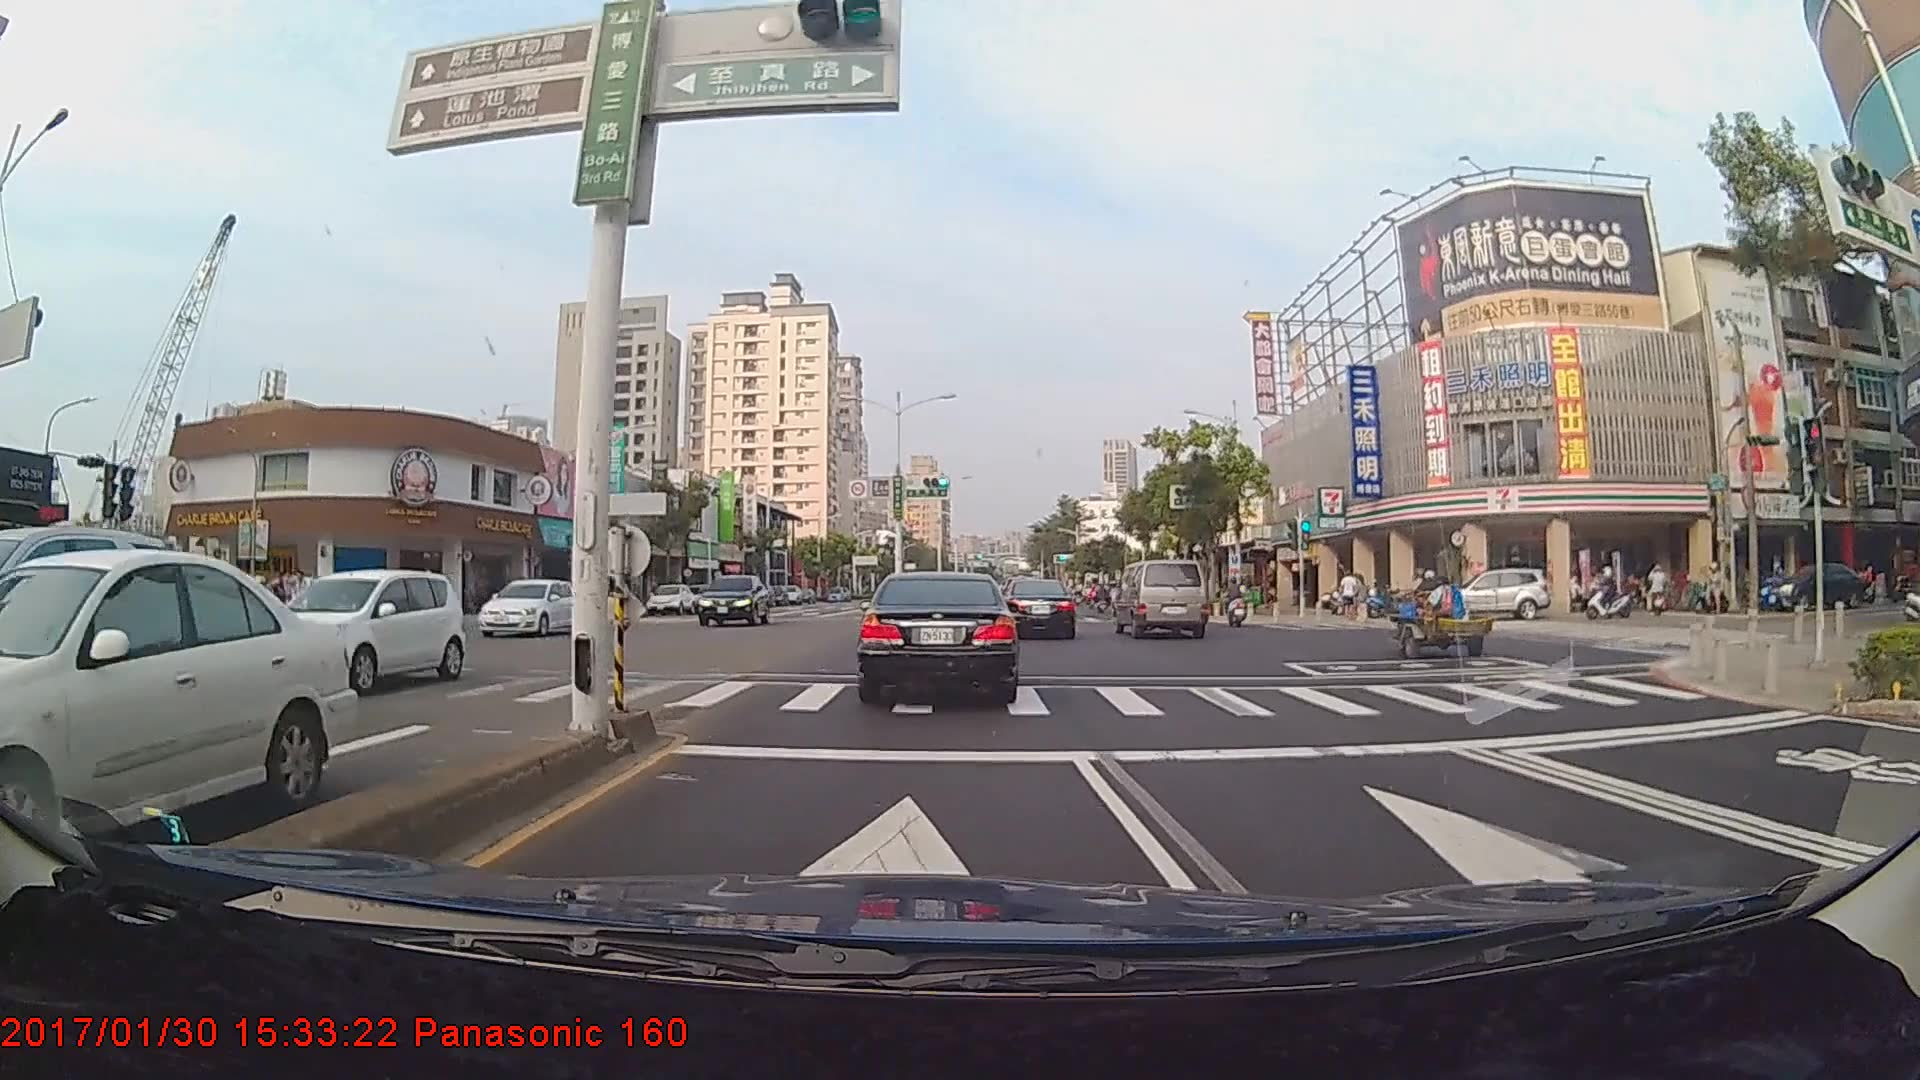pedestrian: (1340, 569, 1360, 620)
rider: (1581, 563, 1644, 627), (1216, 577, 1254, 629)
vehicle: (0, 549, 320, 860), (0, 526, 175, 750), (240, 565, 463, 696), (858, 566, 1018, 705), (1114, 558, 1208, 640), (1419, 571, 1549, 624), (472, 574, 577, 637), (999, 577, 1078, 640), (697, 574, 771, 627), (648, 583, 694, 615)
